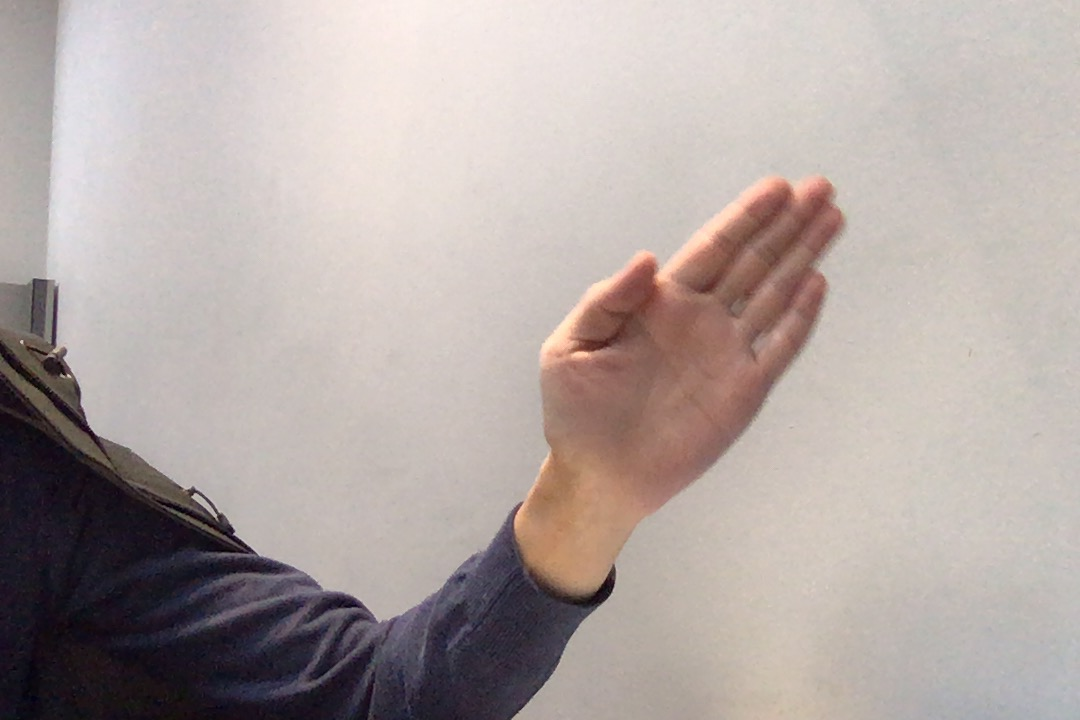palmhand: (507, 146, 869, 517)
